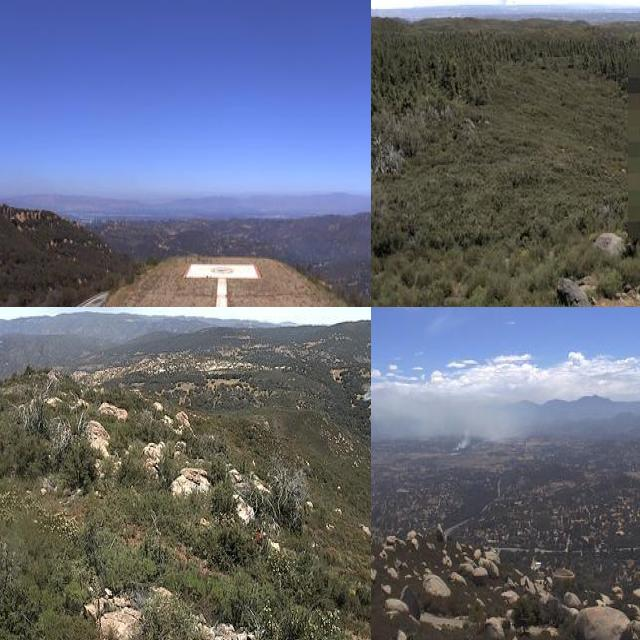smoke: (371, 384, 534, 448)
